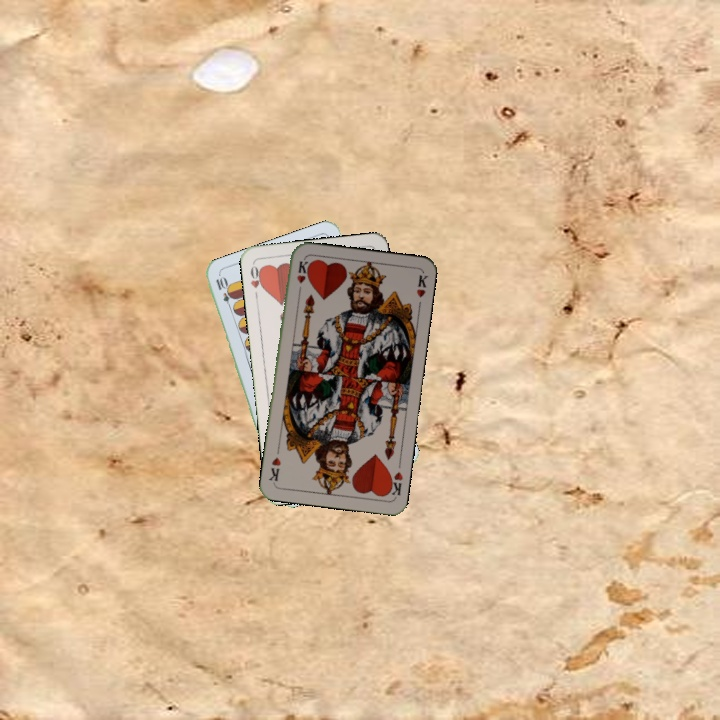E10: (211, 273, 236, 313)
HK: (383, 468, 405, 499), (293, 257, 310, 297)
HO: (246, 261, 266, 301)
